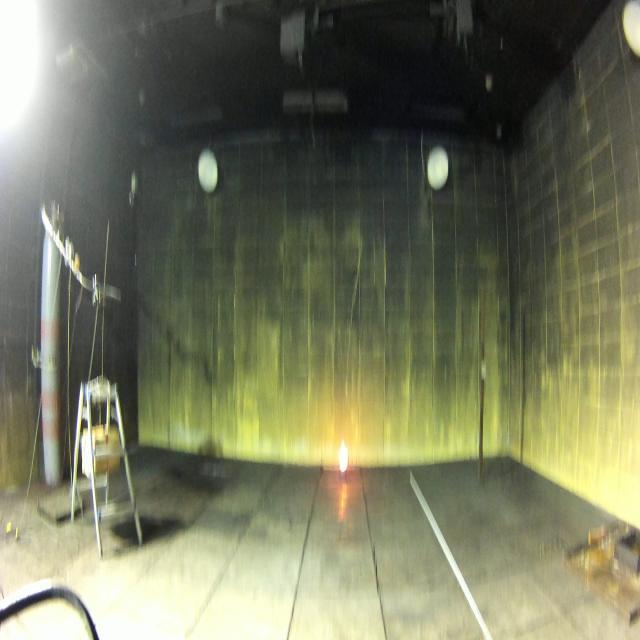Fire: (340, 438, 348, 472)
